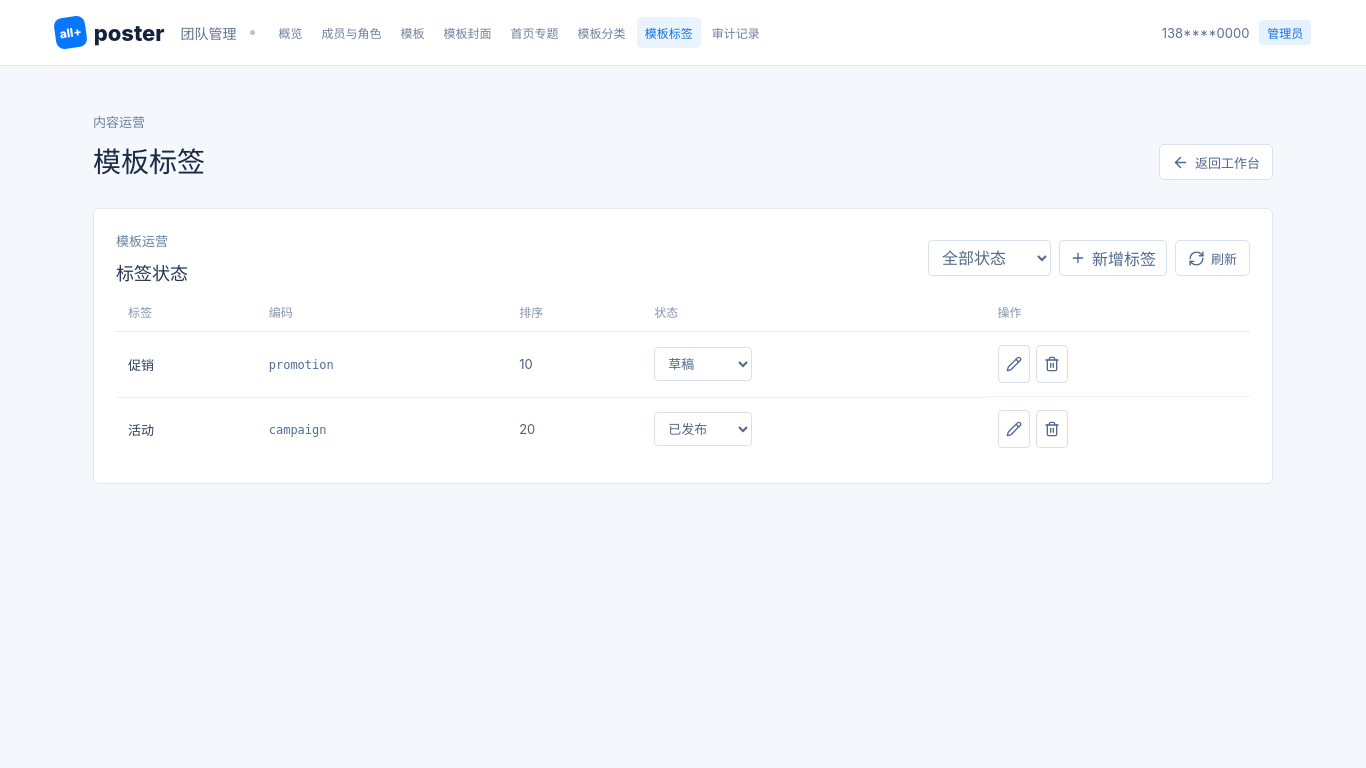
Test: AdminTemplateTagsPage › removes an unreferenced tag and keeps an in-use tag after conflict
Click the button named "删除 促销". click: point(1052, 364)
box: [1036,345,1068,383]
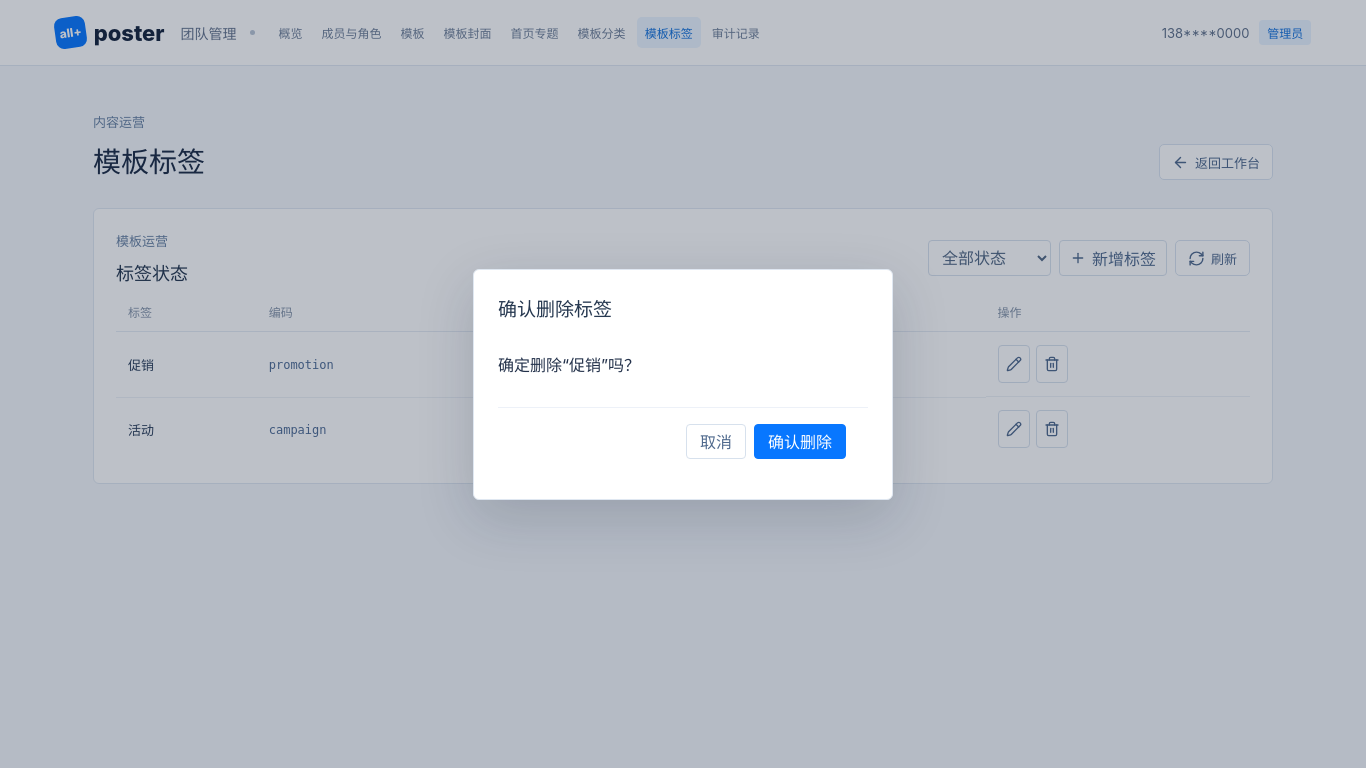
Click the button "确认删除". click: point(800, 441)
box: [754,424,846,458]
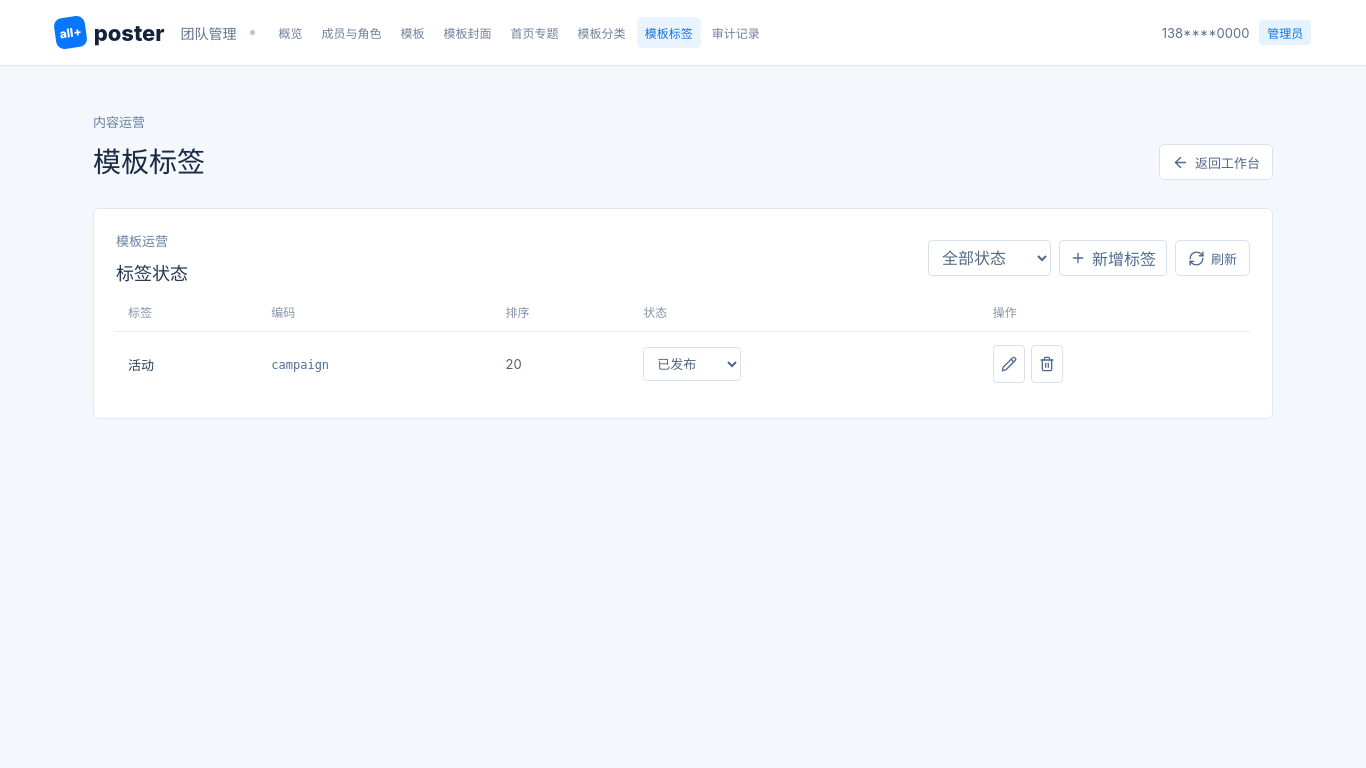
Expected: the text "促销" is gone
Click the button named "删除 活动". click: point(1047, 364)
box: [1031,345,1063,383]
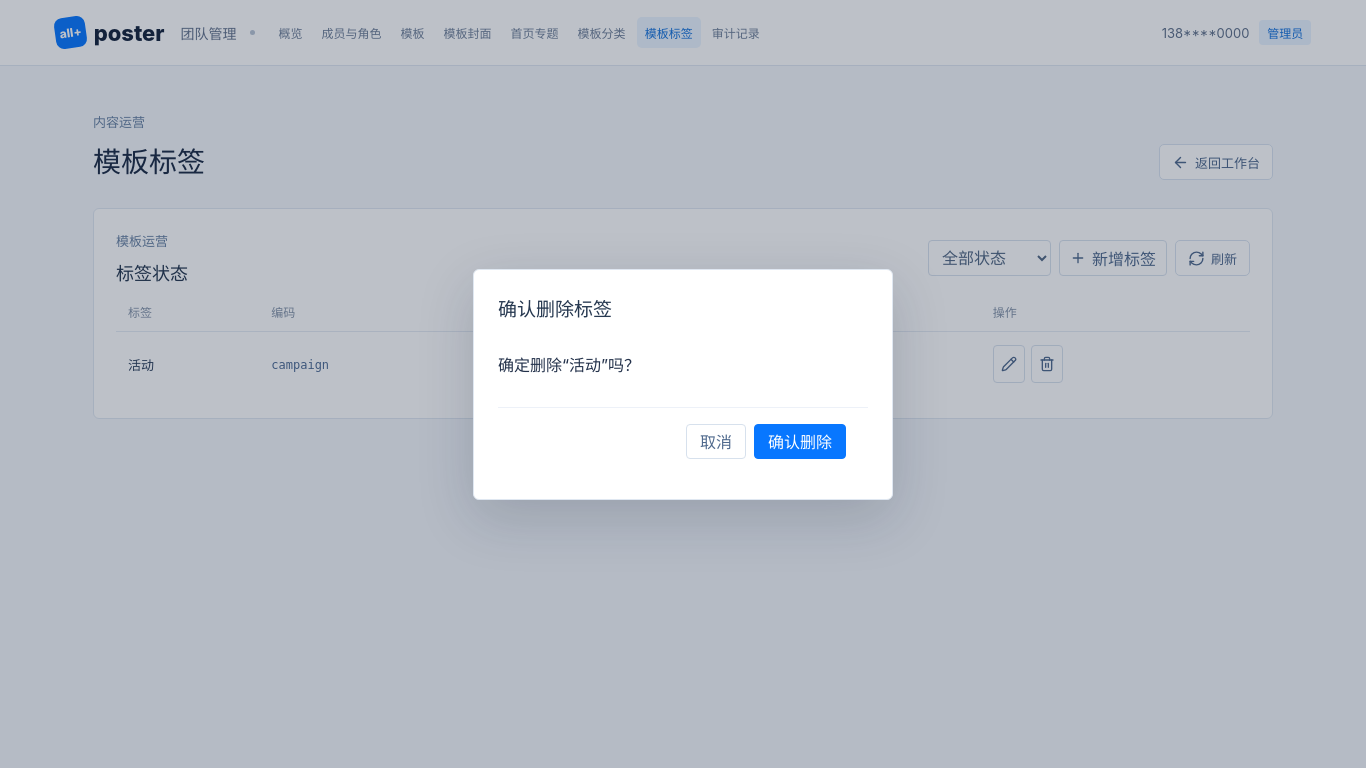
Click the button "确认删除". click: point(800, 441)
box: [754,424,846,458]
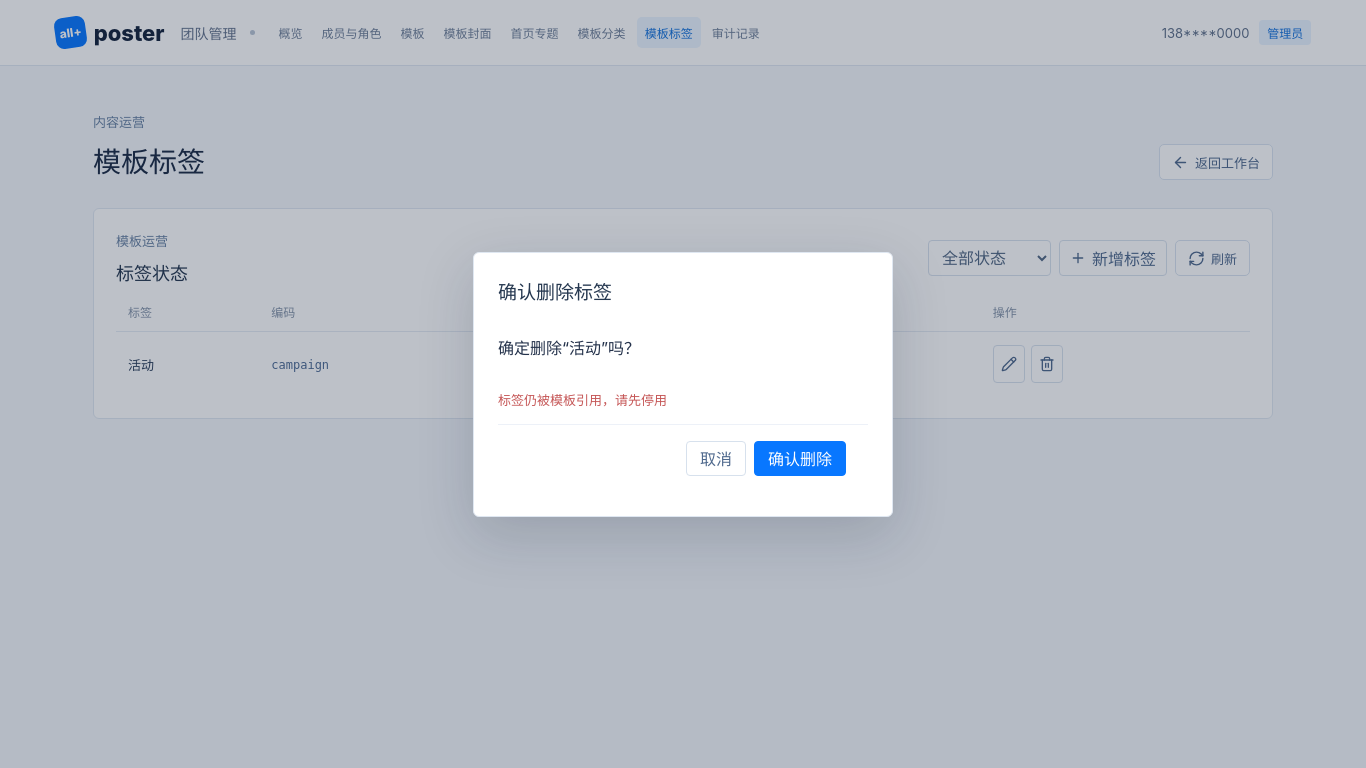
Expected: the text "活动" is shown, [128,356,154,372]
Expected: the message shows "标签仍被模板引用", [498,392,667,408]
